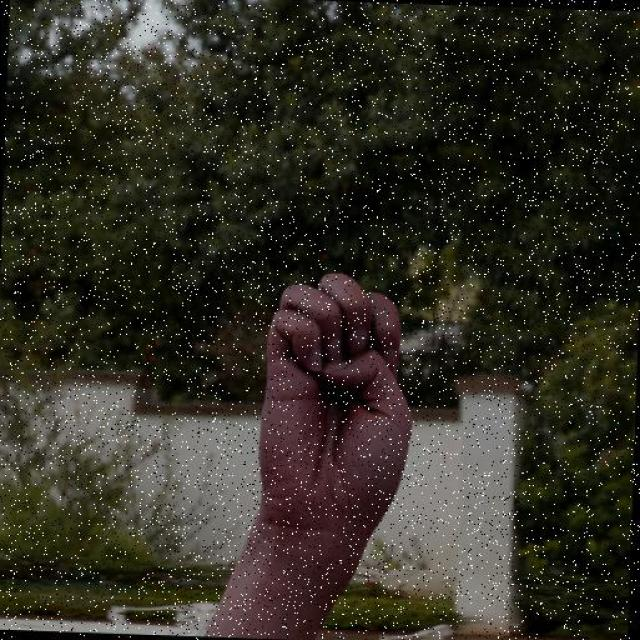E: (252, 266, 423, 540)
